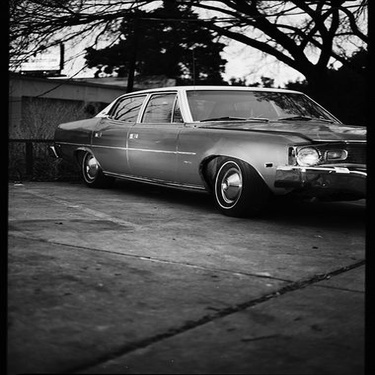car: (47, 81, 364, 227)
